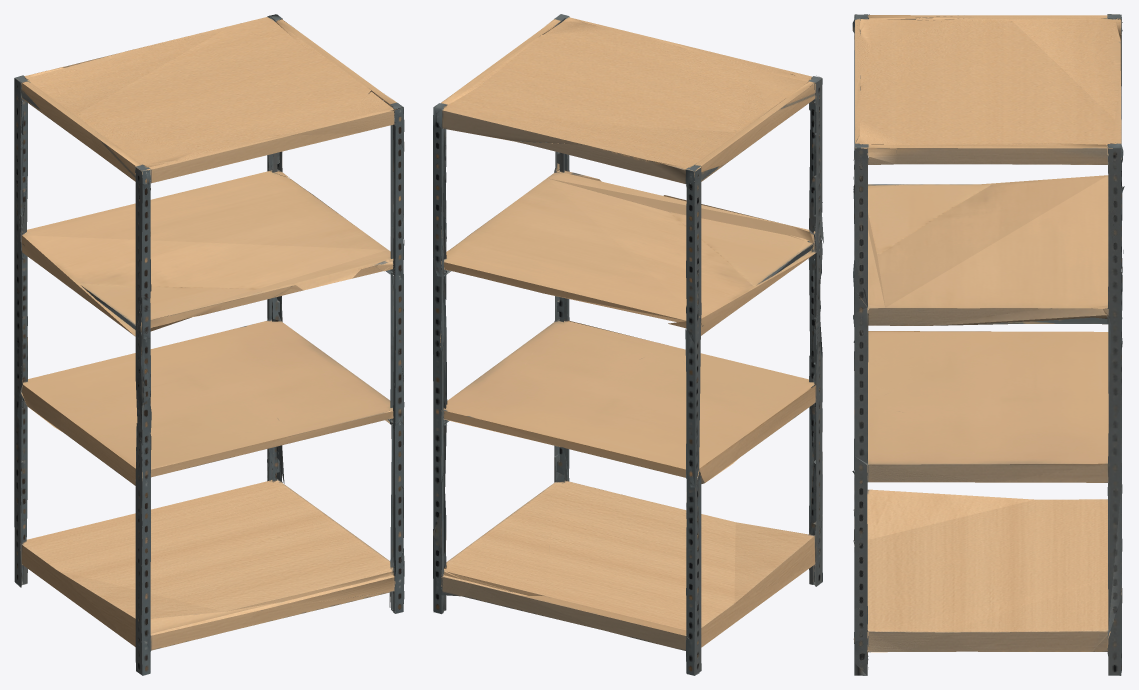
The model's file is wood_shelf.glb.
3 renders of one model, left to right at view 1: azimuth 30°, elevation 25°; view 2: azimuth 150°, elevation 25°; view 3: azimuth 270°, elevation 25°, orthographic. The views are drawn at different scales.
Parts seen in each view (by area): view 1: Mesh_0; view 2: Mesh_0; view 3: Mesh_0.
Part boxes in pixels (left/top/right/bottom): Mesh_0: left=14, top=14, right=404, bottom=675; Mesh_0: left=433, top=14, right=823, bottom=675; Mesh_0: left=852, top=14, right=1124, bottom=675.
Size of the model in its own units: 1.05 by 1.91 by 0.8901.
1 material, 1 textured.
